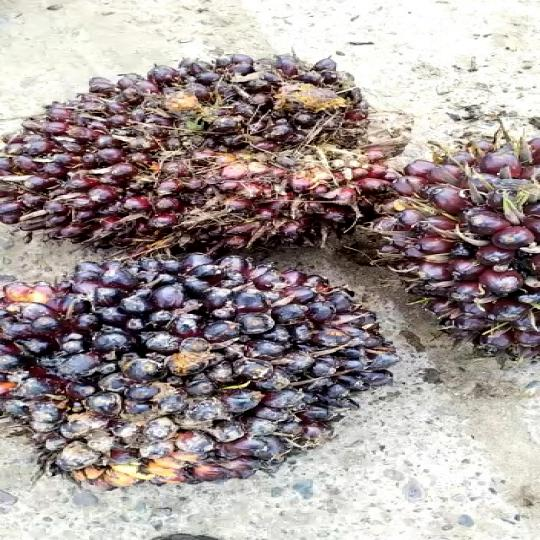kurang masak: (0, 250, 390, 505), (0, 59, 402, 274)
